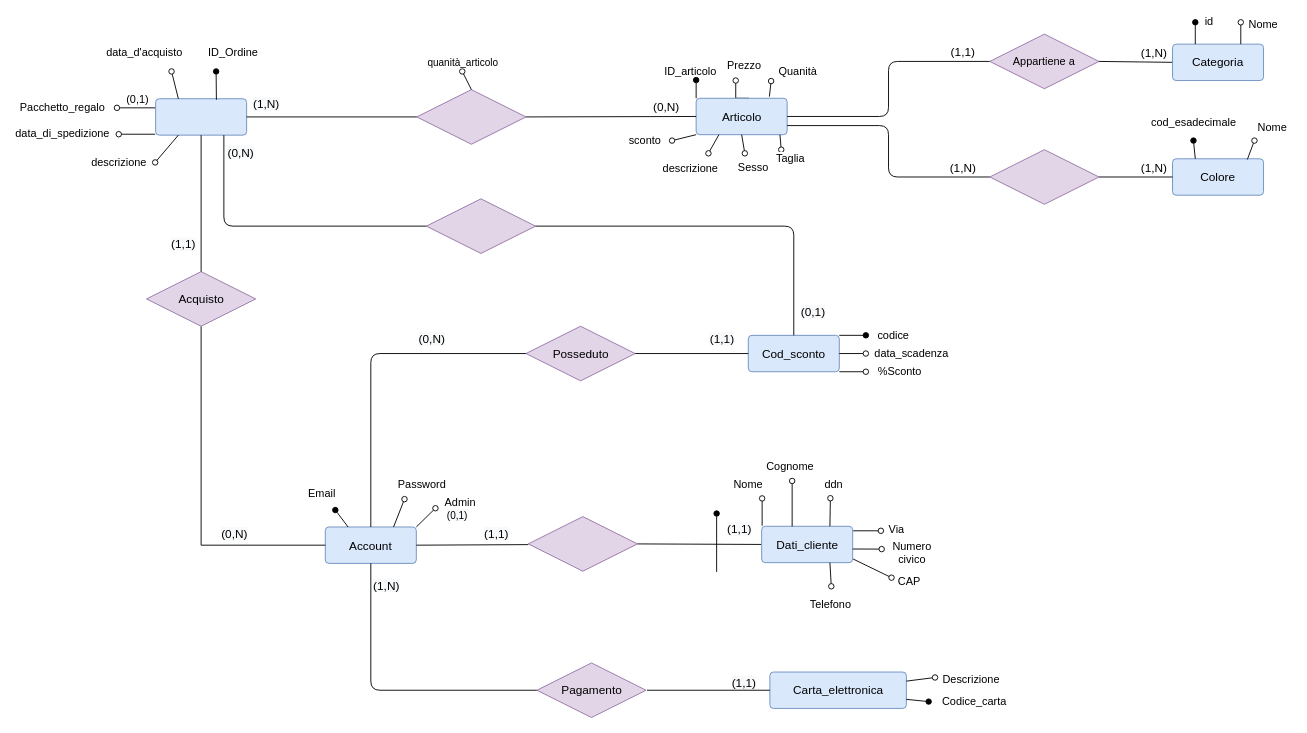
The diagram is 1307 pixels wide and 733 high, and some of its shapes have lost their labels. Here are the shapes that lost their labels. From the top down, the box of each, then its label:
(155, 98, 247, 135): Ordine
(416, 89, 526, 144): Composizione
(989, 149, 1099, 204): Tinta
(425, 198, 536, 253): Applicato
(527, 516, 637, 571): Registrazione
